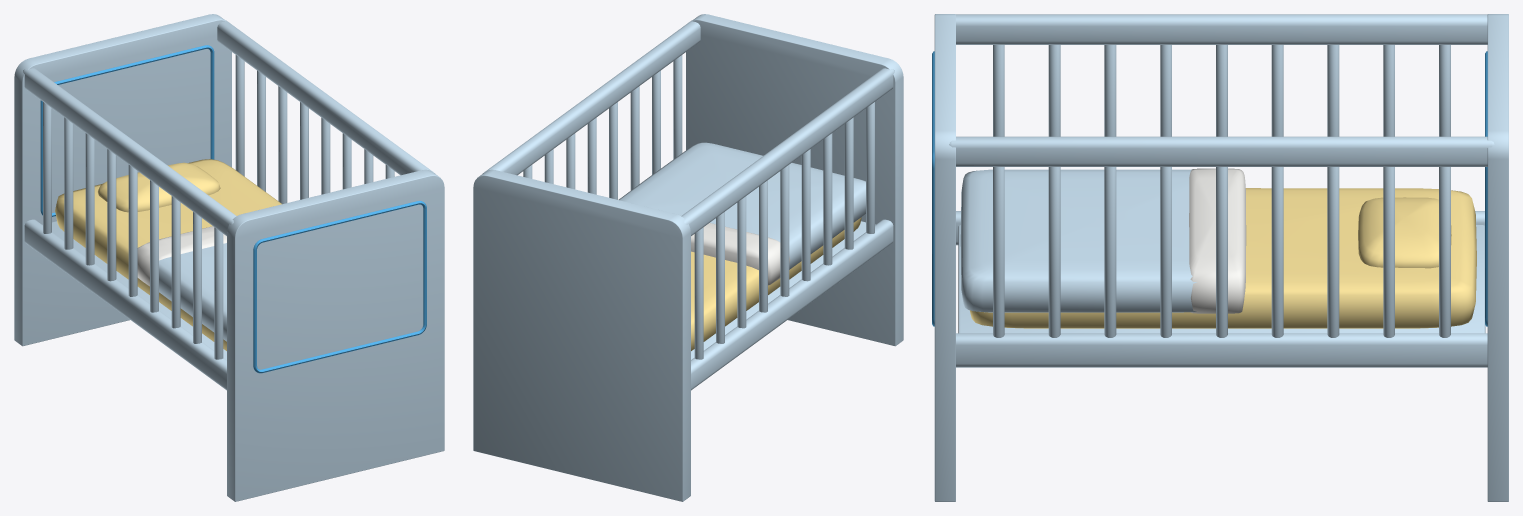
File: berco_painel_azul.glb
3 renders of one model, left to right at view 1: azimuth 30°, elevation 25°; view 2: azimuth 150°, elevation 25°; view 3: azimuth 270°, elevation 25°, orthographic. The views are drawn at different scales.
Parts seen in each view (by area): view 1: berco_painel_azul; view 2: berco_painel_azul; view 3: berco_painel_azul.
Boxes of the visible parts, left/top/right/bottom form: berco_painel_azul: left=14, top=14, right=444, bottom=501; berco_painel_azul: left=473, top=14, right=903, bottom=501; berco_painel_azul: left=932, top=14, right=1508, bottom=501.
Size of the model in its own units: 0.74 by 0.94 by 1.36.
1 material, 1 textured.
